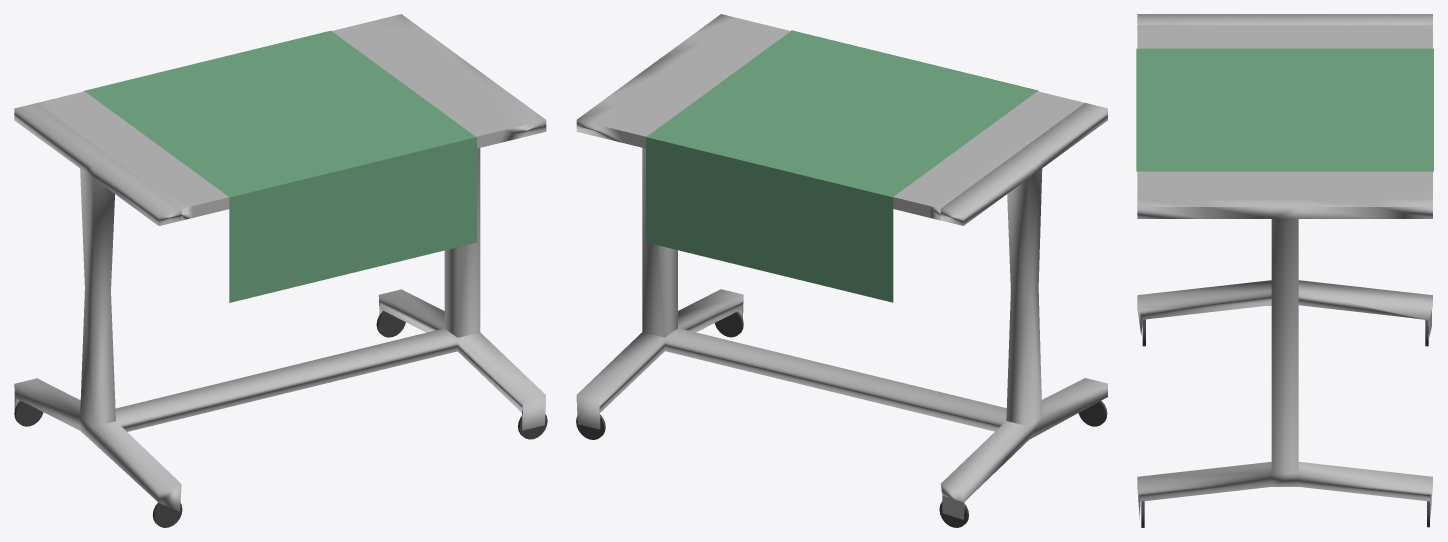
The model's file is newnewnew.fbx.
3 views of the same model, side by side, from view 1: azimuth 30°, elevation 25°; view 2: azimuth 150°, elevation 25°; view 3: azimuth 270°, elevation 25° (orthographic). The views are drawn at different scales.
Visible parts, largest first — view 1: wheel1_ncl1_1; view 2: wheel1_ncl1_1; view 3: wheel1_ncl1_1.
Part boxes in pixels (box(x1,y1,x2,y2)): wheel1_ncl1_1: box(14, 14, 547, 527); wheel1_ncl1_1: box(576, 14, 1107, 527); wheel1_ncl1_1: box(1136, 14, 1433, 527).
Bounding box in the file's own units: 17.24 × 13.36 × 11.08.
